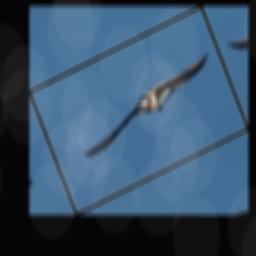Swallow: (69, 49, 221, 159)
